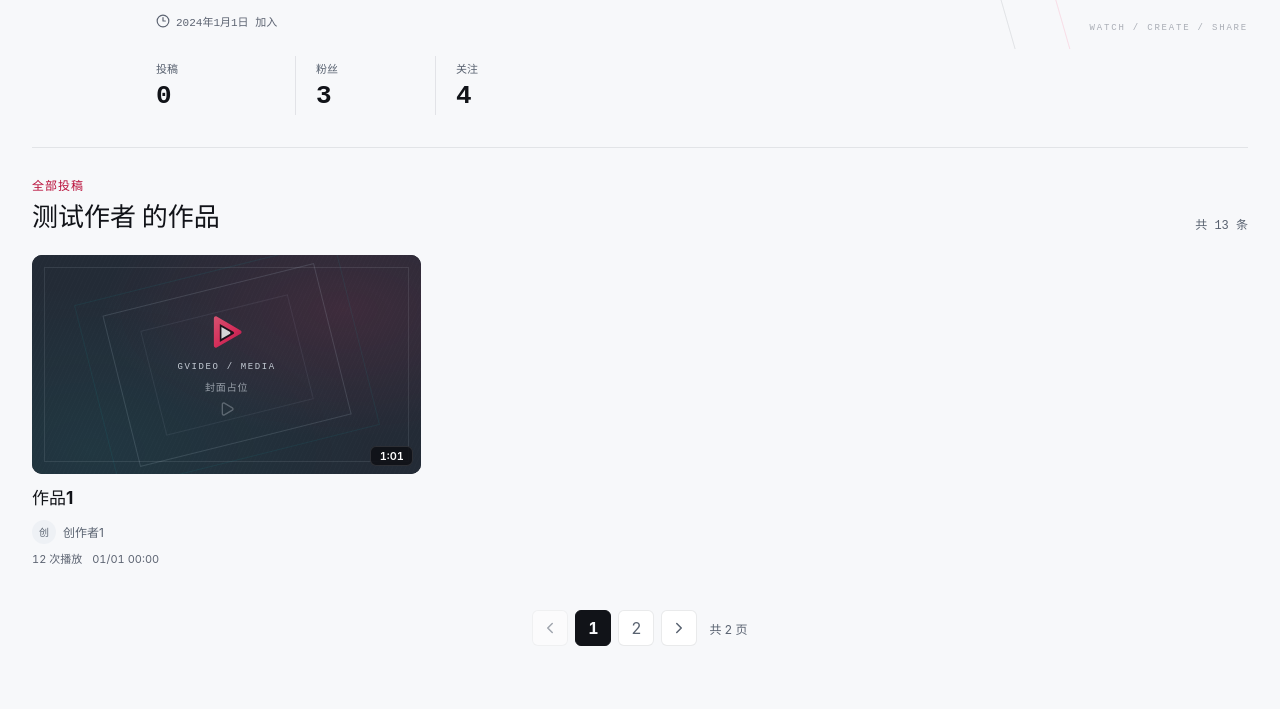
CreatorPage › 作者作品使用 standard 卡片并保留分页参数
(page scrolled)
Expected: the link "作品1" is shown, left=32, top=488, right=73, bottom=508
Expected: the number of elements with class "gv-video-card--standard" is 1, left=32, top=255, right=421, bottom=568
Click the button named "下一页" at [679, 628], box left=661, top=610, right=697, bottom=646
(page scrolled)
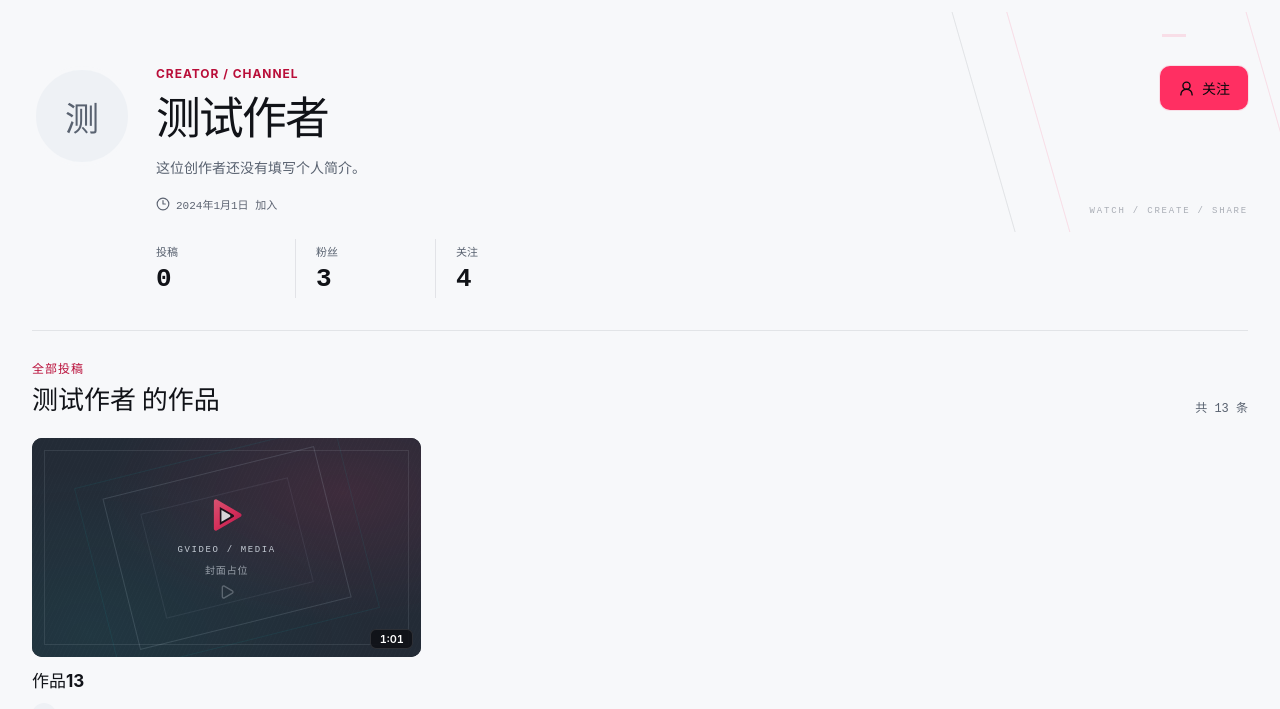
Now the link "作品13" is shown, box left=32, top=671, right=84, bottom=691
